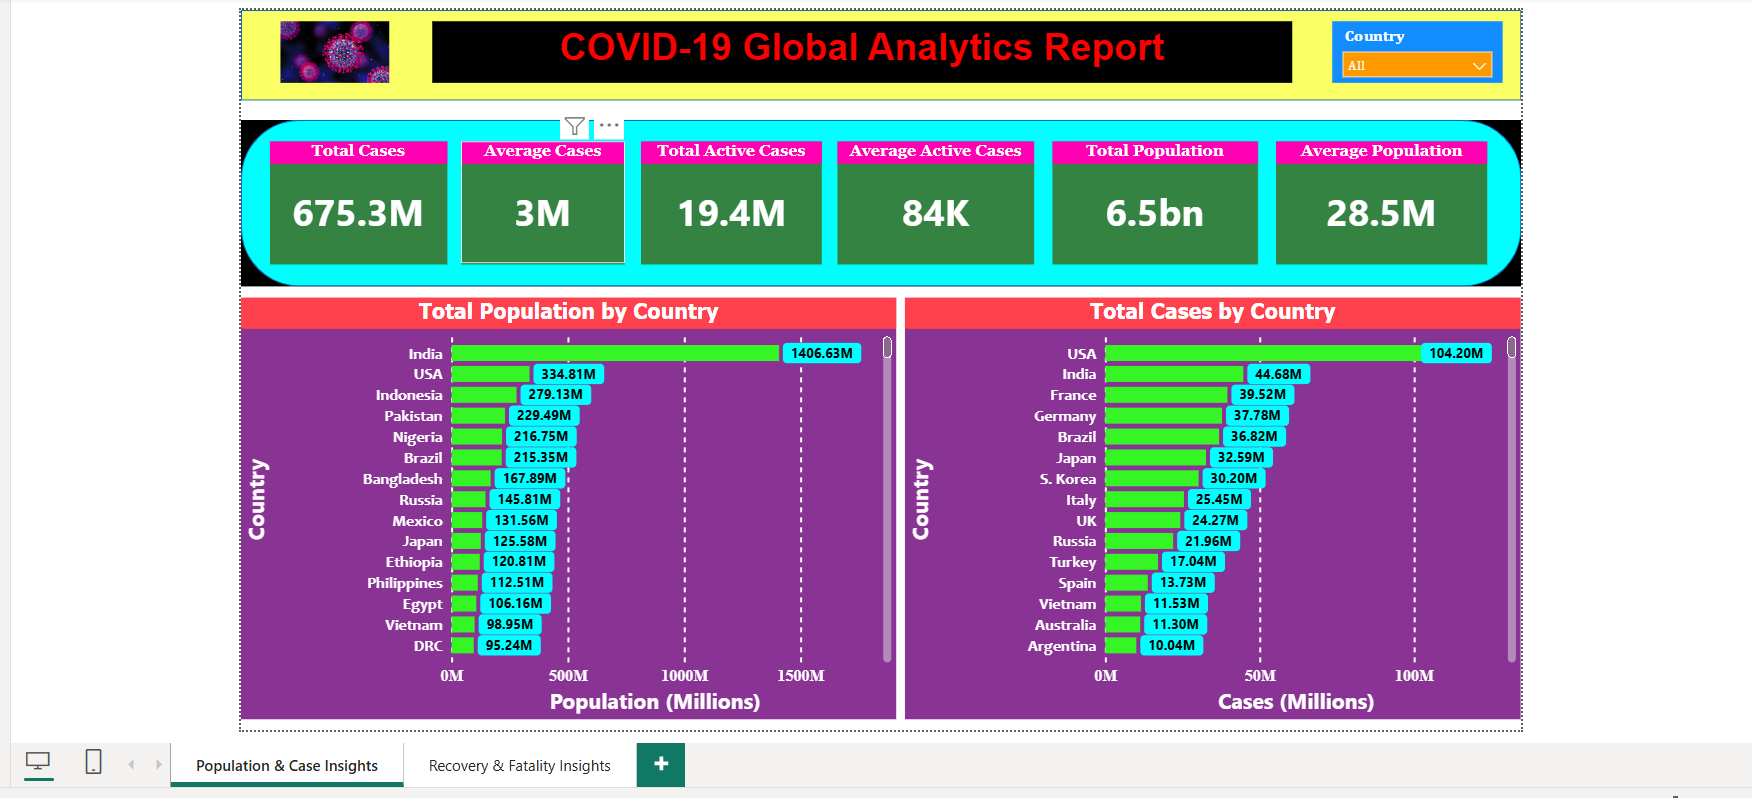

What the dashboard file says about the page in this screenshot:
{"tool":"powerbi","page":{"name":"Population & Case Insights","canvas":[1280,720],"ordinal":0},"visuals":[{"type":"shape","box":[0,0,1280.3,90.5],"z":0},{"type":"textbox","box":[191.2,11.2,860,61.2],"z":1000},{"type":"slicer","fields":{"Values":["covid_worldwide.Country"]},"box":[1091.2,11.2,170,61.2],"z":2000},{"type":"shape","box":[0,110.1,1280.3,166.3],"z":3000},{"type":"card","title":"Total Cases","fields":{"Values":["Sum(covid_worldwide.Total Cases)"]},"box":[28.1,130.8,177.3,123.5],"z":4000},{"type":"card","title":"Total Active Cases","fields":{"Values":["Sum(covid_worldwide.Active Cases)"]},"box":[399.9,130.8,181,123.5],"z":5000},{"type":"card","title":"Total Population","fields":{"Values":["Sum(covid_worldwide.Population)"]},"box":[810.7,130.8,205.4,123.5],"z":6000},{"type":"barChart","title":"Total Population by Country","fields":{"Category":["covid_worldwide.Country"],"Y":["Sum(covid_worldwide.Population)"]},"box":[0,287.4,655.4,421.9],"z":7000},{"type":"barChart","title":"Total Cases by Country","fields":{"Category":["covid_worldwide.Country"],"Y":["Sum(covid_worldwide.Total Cases)"]},"box":[664,287.4,616.3,421.9],"z":8000},{"type":"image","box":[36.2,11.2,115,61.2],"z":9000},{"type":"card","title":"Average Cases","fields":{"Values":["Avg(covid_worldwide.Total Cases)"]},"box":[220.1,130.8,163.9,123.5],"z":10000},{"type":"card","title":"Average Active Cases","fields":{"Values":["Avg(covid_worldwide.Active Cases)"]},"box":[596.7,130.8,196.9,123.5],"z":11000},{"type":"card","title":"Average Population","fields":{"Values":["Avg(covid_worldwide.Population)"]},"box":[1034.5,130.8,211.6,123.5],"z":12000}]}

Visuals, with their boxes on the page's 1280x720 design canvas (x1, y1, x2, y2). These are canvas units, not pixel positions in the 1752x798 screenshot, which may show the page scaled, cropped or inside an application window:
shape: (0, 0, 1280, 90)
textbox: (191, 11, 1051, 72)
slicer - covid_worldwide.Country: (1091, 11, 1261, 72)
shape: (0, 110, 1280, 276)
"Total Cases" card: (28, 131, 205, 254)
"Total Active Cases" card: (400, 131, 581, 254)
"Total Population" card: (811, 131, 1016, 254)
"Total Population by Country" barChart: (0, 287, 655, 709)
"Total Cases by Country" barChart: (664, 287, 1280, 709)
image: (36, 11, 151, 72)
"Average Cases" card: (220, 131, 384, 254)
"Average Active Cases" card: (597, 131, 794, 254)
"Average Population" card: (1034, 131, 1246, 254)
